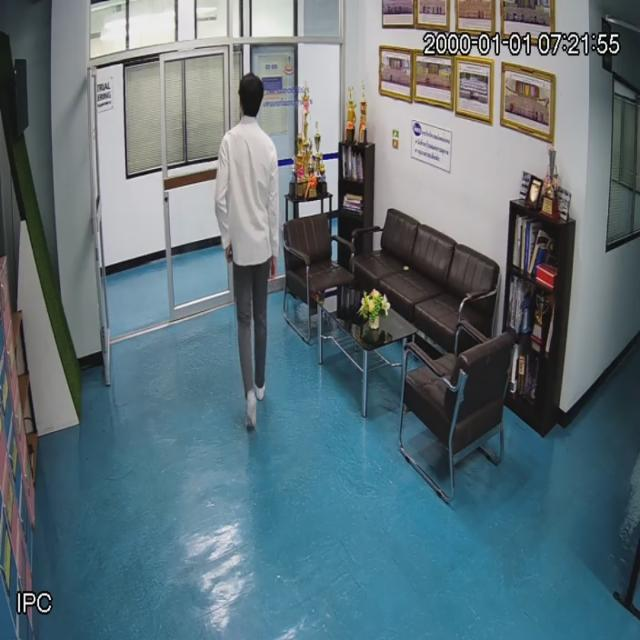normal: (214, 66, 281, 434)
